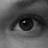eye: (19, 19, 34, 31)
